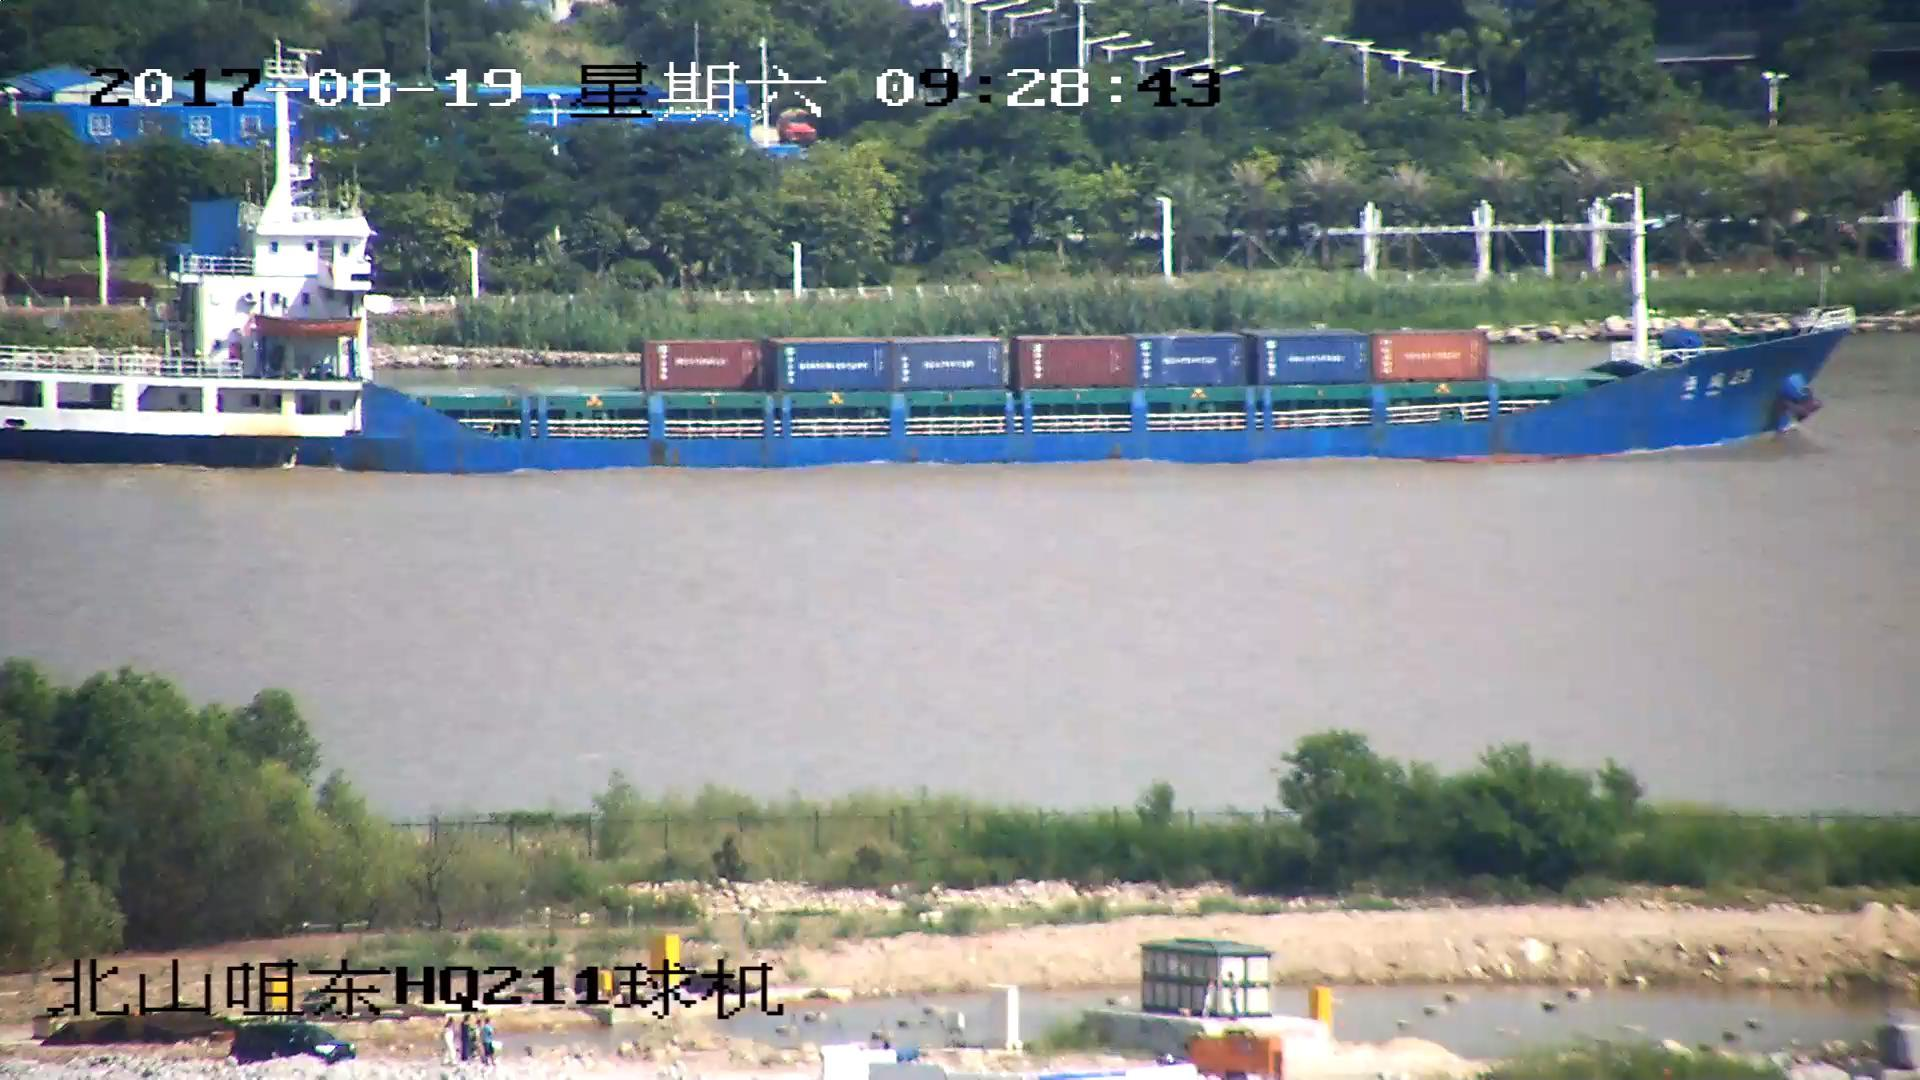Ship: (3, 112, 1846, 465)
